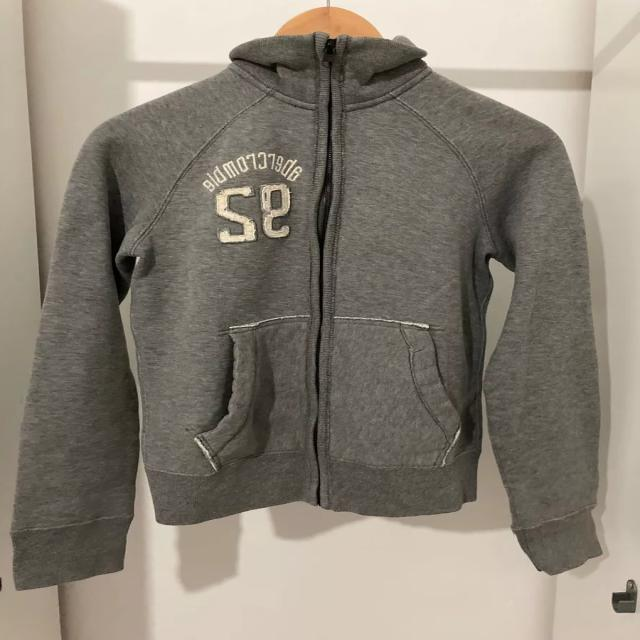sweater: (11, 34, 608, 593)
